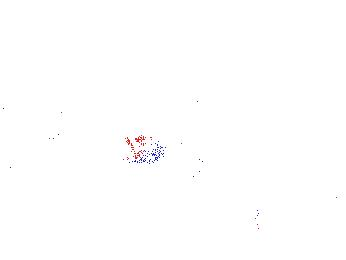flame jellyfish: (124, 133, 215, 190), (246, 156, 300, 230), (32, 73, 76, 142)
